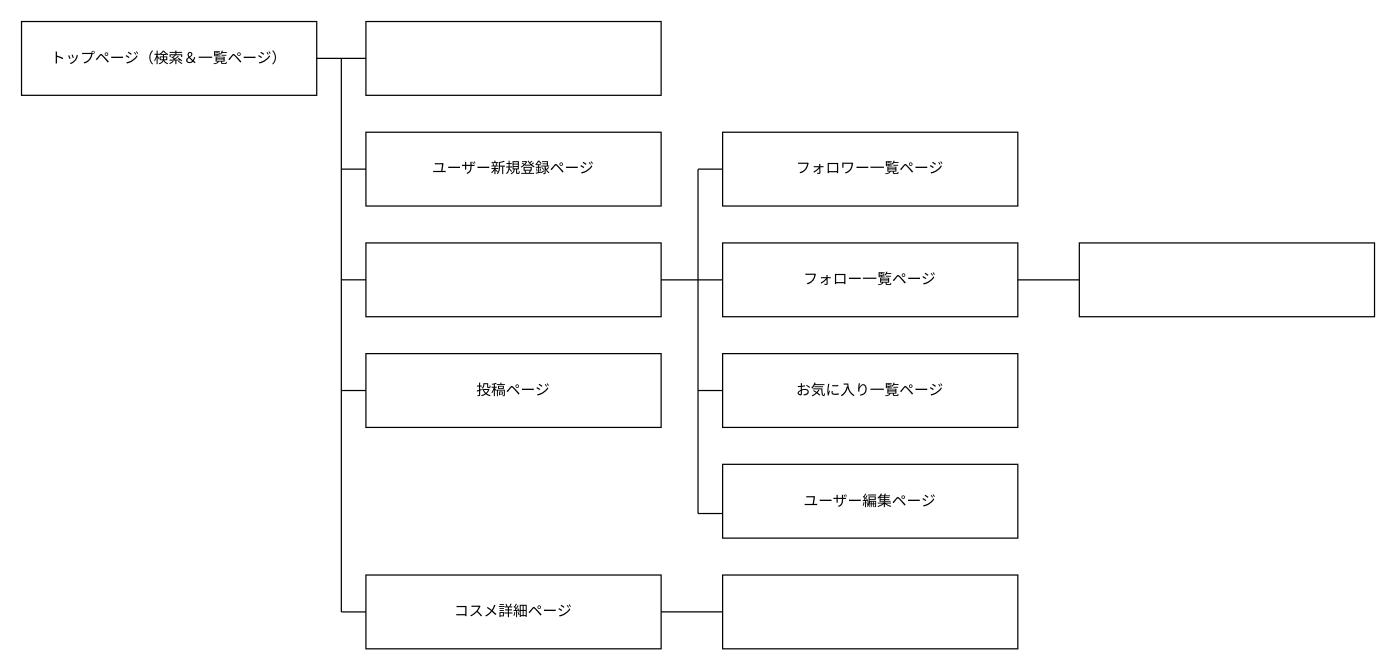
Some shapes in this 1396 by 670 pixel diagram are drawn without their labels. The shapes that lost their labels are listed below. From the top down, each one's centre as x and y in pixels, then its label:
At (513,57): "ユーザーログインページ".
At (513,279): "ユーザーマイページ".
At (1226,279): "ユーザー詳細ページ".
At (869,611): "コスメ編集ページ".
